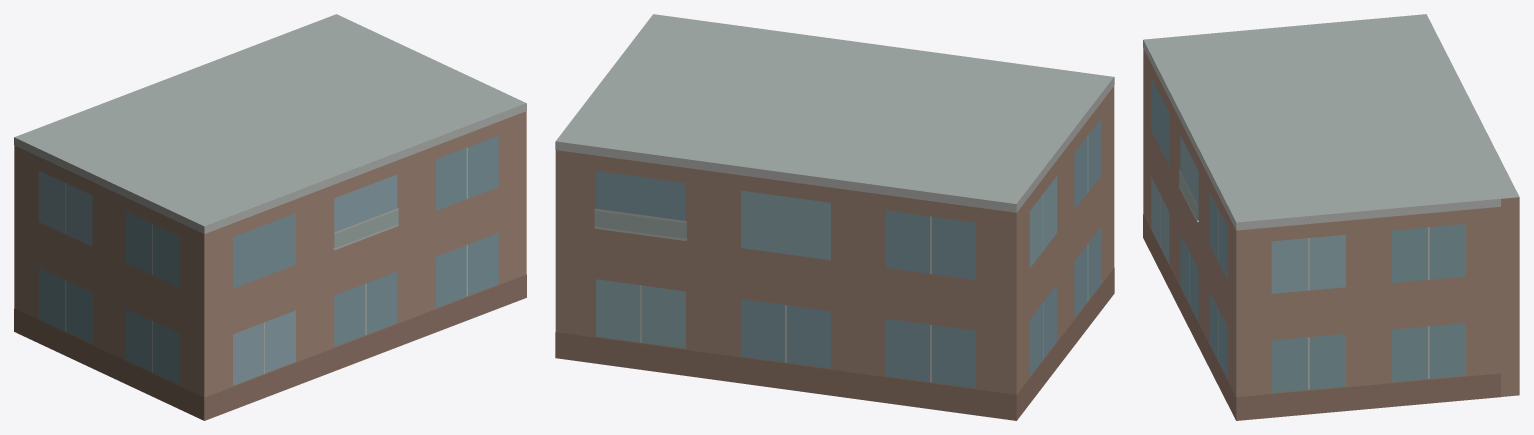
File: survey-upis-32693152.glb
The picture shows the model from 3 angles, left to right: view 1: azimuth 30°, elevation 25°; view 2: azimuth 150°, elevation 25°; view 3: azimuth 270°, elevation 25°; orthographic projection. The views are drawn at different scales.
Parts seen in each view (by area): view 1: survey-upis-32693152.tmp; view 2: survey-upis-32693152.tmp; view 3: survey-upis-32693152.tmp.
Boxes of the visible parts, box(x1,y1,x2,y2) form: survey-upis-32693152.tmp: box(14, 14, 526, 420); survey-upis-32693152.tmp: box(555, 14, 1114, 420); survey-upis-32693152.tmp: box(1143, 14, 1519, 420).
Size of the model in its own units: 13.78 by 6.1 by 10.51.
